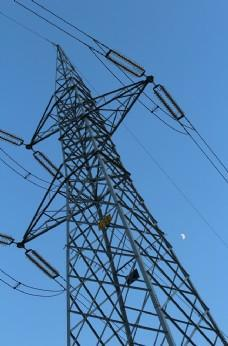power_tower: (20, 34, 228, 345)
